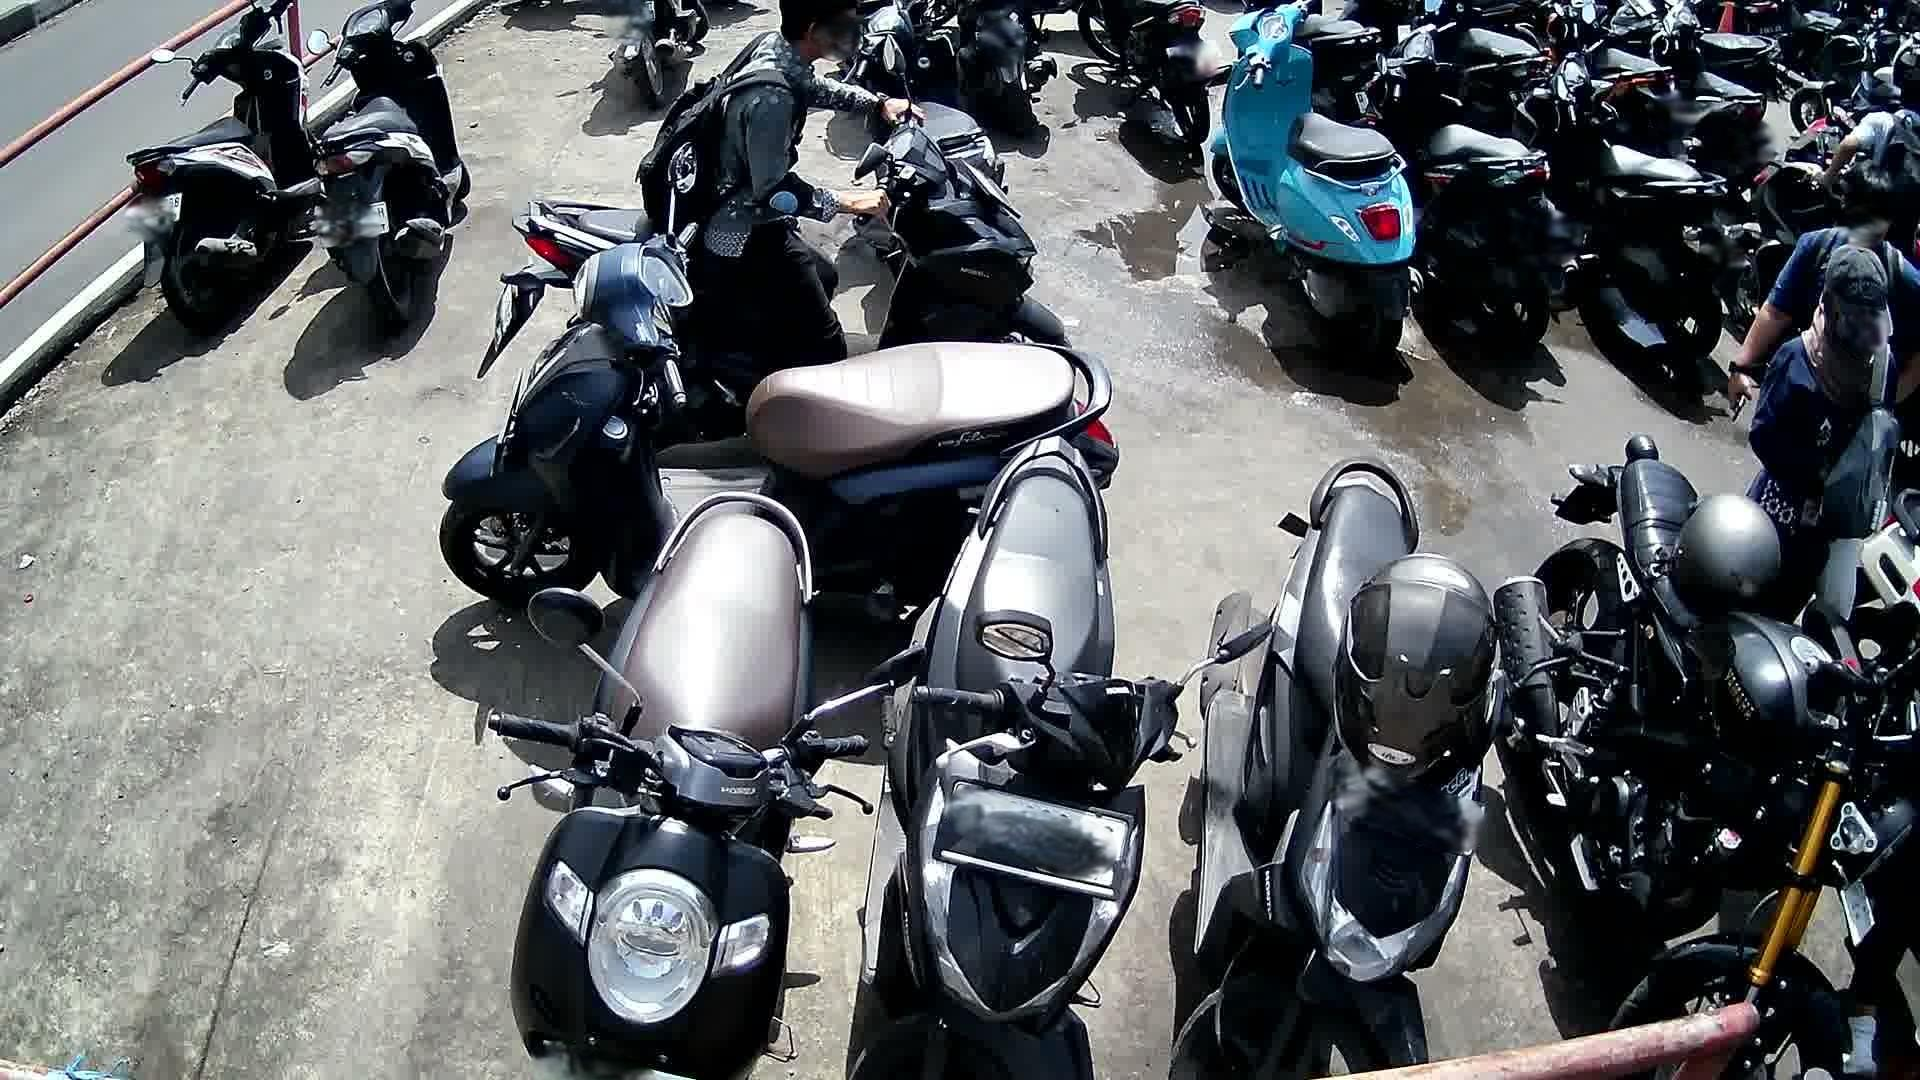motorcycle: (438, 140, 1124, 615), (1493, 435, 1920, 1080), (851, 434, 1237, 1080), (488, 489, 898, 1080), (1170, 455, 1501, 1080), (472, 37, 1075, 377), (1203, 0, 1428, 376), (1501, 40, 1753, 372), (1356, 17, 1580, 367), (121, 0, 323, 340), (305, 0, 476, 344)
